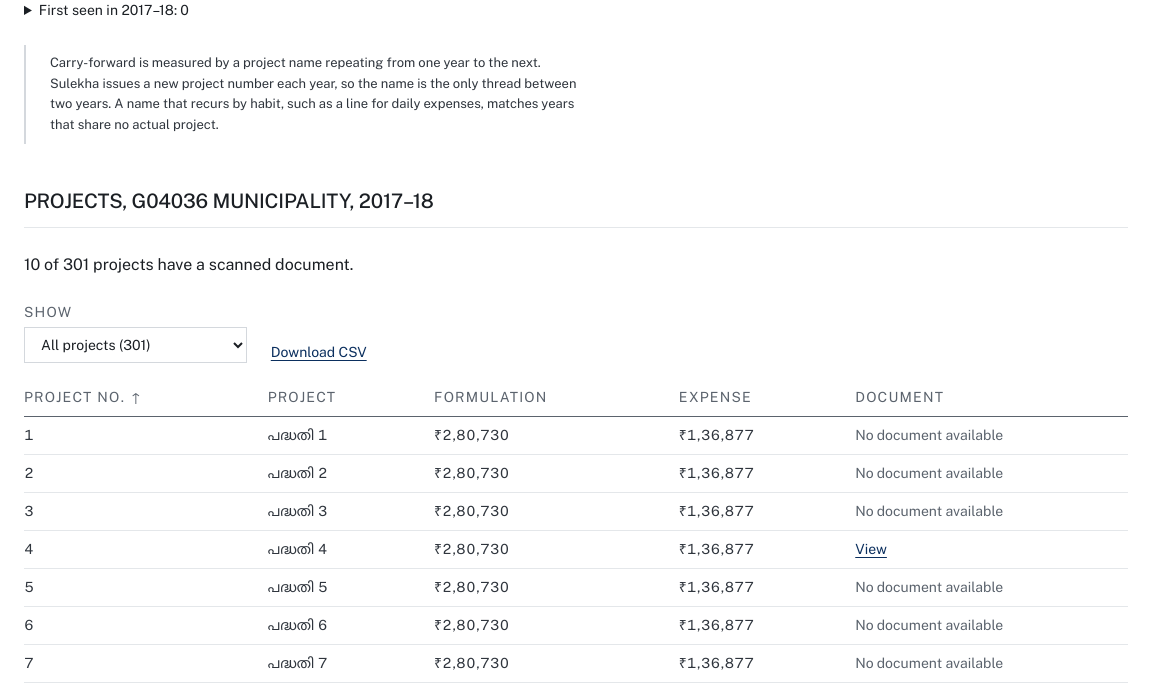
it: finding the projects that have a document › surfaces the ten that would otherwise sit six pages down
(page scrolled)
Expected: the number of buttons "View" is 1, [855,539,887,560]
Step 1. Select "With a document (10)" in the dropdown with test id "project-filter" → [135, 345], box [24,327,247,363]
(page scrolled)
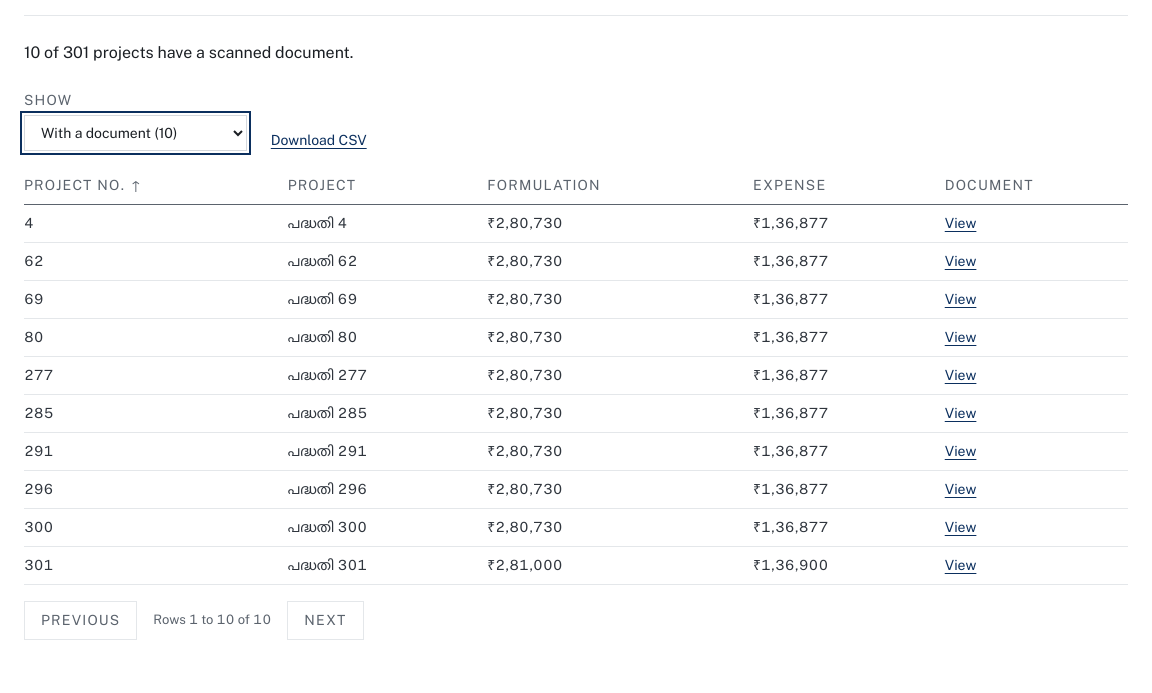
Expected: the number of buttons "View" is 10
Expected: the text with test id "page-position" reads "Rows 1 to 10 of 10", [153,610,271,630]
